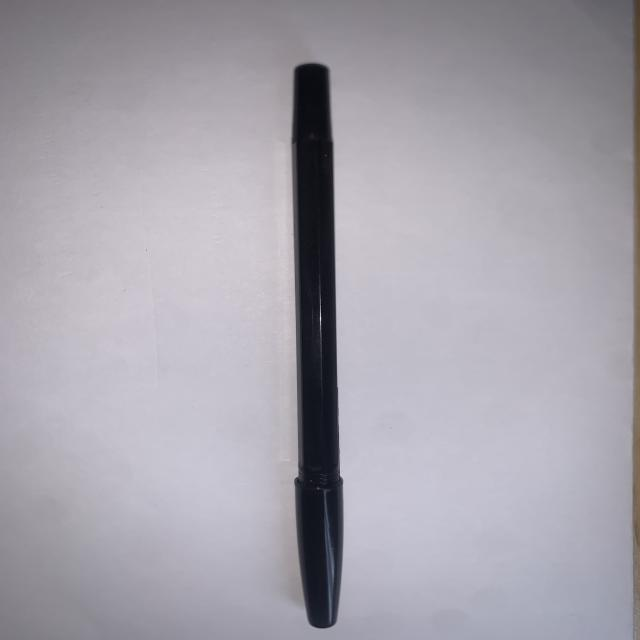Pulpen: (269, 56, 380, 635)
